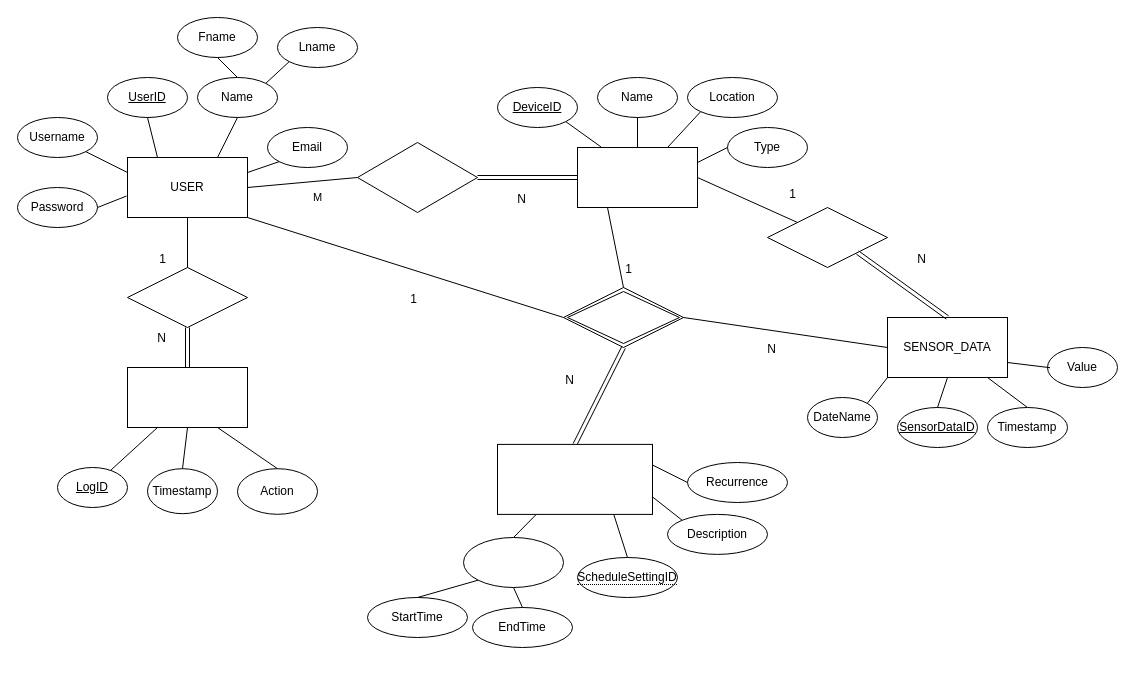
This 1135x673 diagram has some shape labels left out. The shapes that lost their labels are listed below. From the top down, each one's box as (x1, y1, x2, y2) in pixels, then its label:
(356, 142, 478, 212): OWNS
(576, 146, 698, 208): DEVICE
(766, 206, 888, 268): GENERATES
(126, 266, 248, 328): VIEWS
(562, 286, 684, 348): HAS
(126, 366, 248, 428): ACTIVITY_LOG
(496, 443, 652, 514): SCHEDULE_SETTING
(462, 536, 564, 588): AppliedTIme
